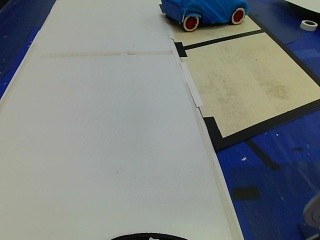car: (156, 0, 255, 32)
